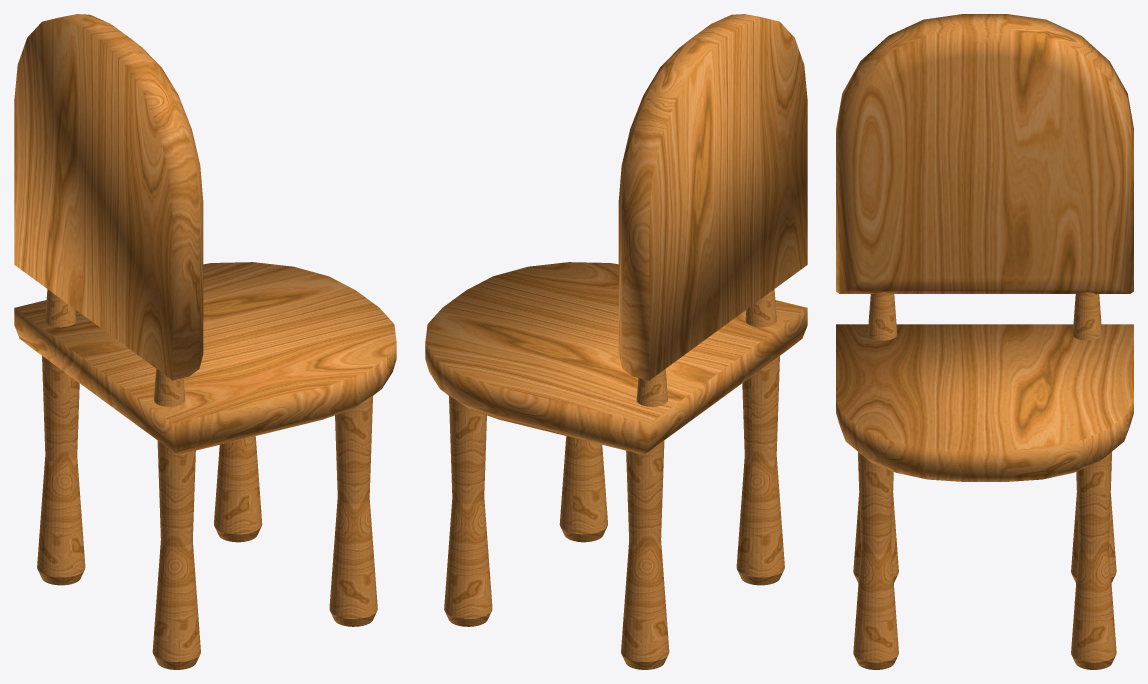
The model's file is DiningChair.fbx.
The picture shows the model from 3 angles, left to right: view 1: azimuth 30°, elevation 25°; view 2: azimuth 150°, elevation 25°; view 3: azimuth 270°, elevation 25°; orthographic projection. The views are drawn at different scales.
Parts seen in each view (by area): view 1: Cylinder.002; view 2: Cylinder.002; view 3: Cylinder.002.
Part boxes in pixels (<box>): Cylinder.002: <box>14,14,396,669</box>; Cylinder.002: <box>425,14,807,669</box>; Cylinder.002: <box>836,14,1133,669</box>.
Bounding box in the file's own units: 200 × 411 × 200.
